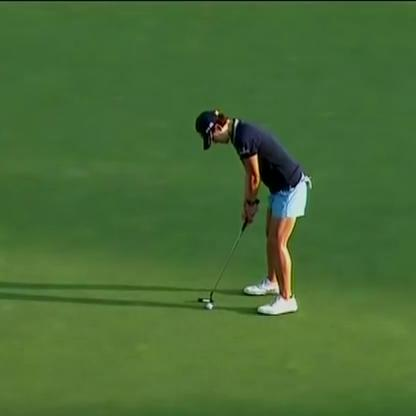golfball: (203, 303, 213, 310)
